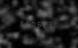eight: (53, 20, 58, 28)
six: (35, 19, 40, 28), (17, 19, 22, 27), (23, 19, 28, 27)
three: (47, 20, 52, 28)
two: (41, 20, 46, 28)
zero: (29, 19, 34, 27)
